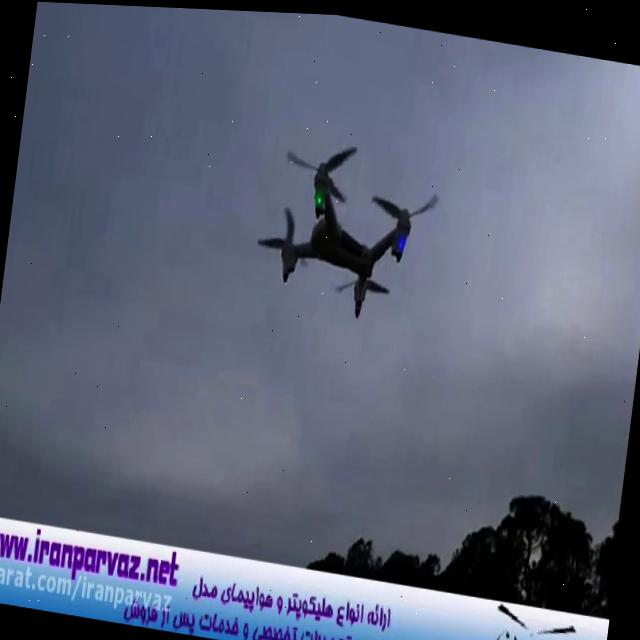drone: (245, 122, 448, 328)
